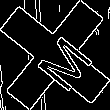M_NW: (21, 21, 89, 89)
